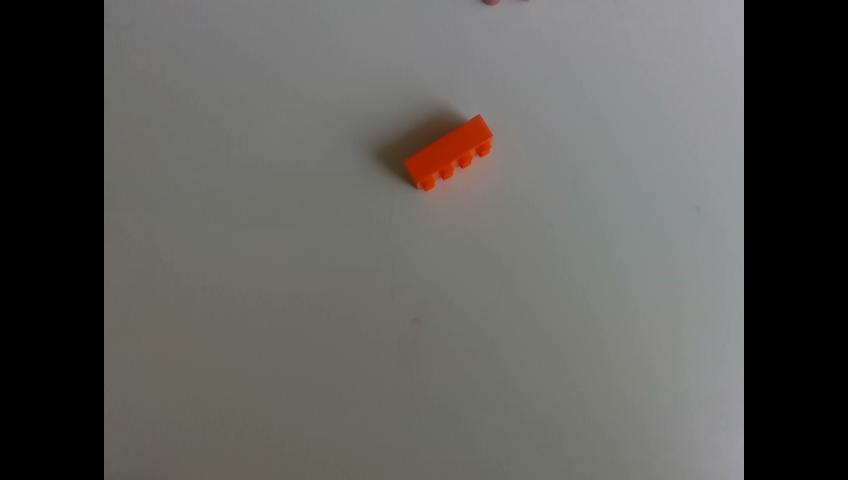4x2_orange: (405, 113, 494, 189)
